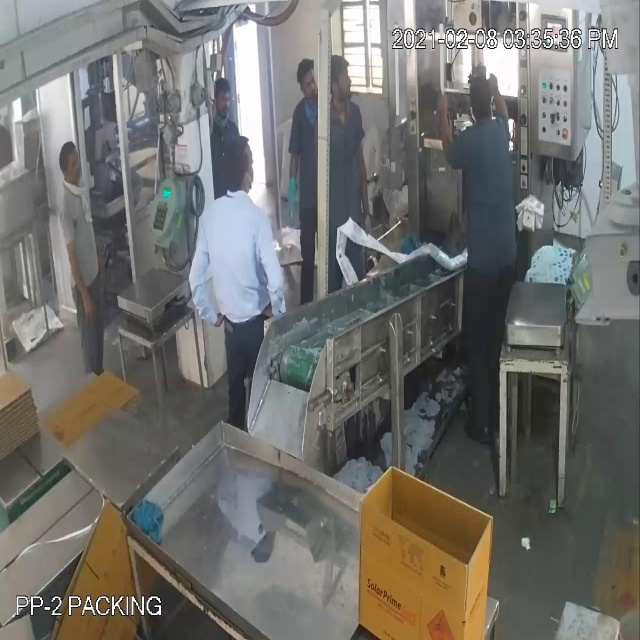Guantes: (283, 160, 300, 225)
Sin_guantes: (184, 221, 221, 334), (260, 220, 294, 332), (69, 230, 96, 332), (434, 86, 461, 175), (354, 128, 375, 234), (489, 66, 510, 149)
